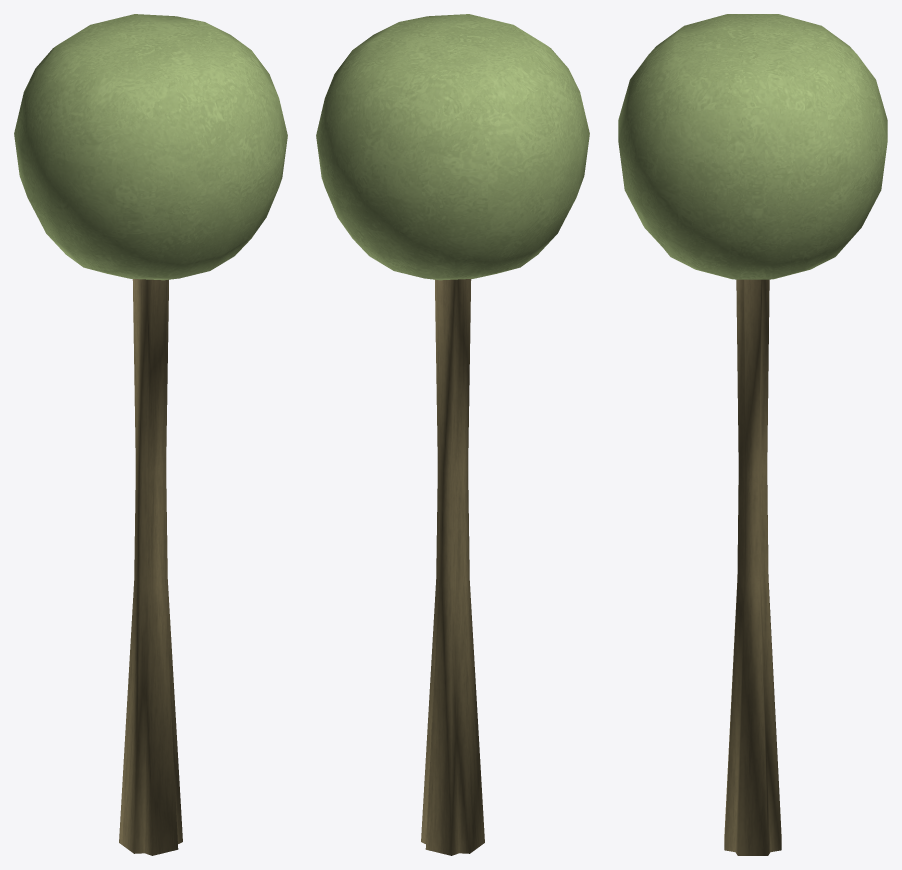
Rendered from THETREE1.FBX.
The picture shows the model from 3 angles, left to right: view 1: azimuth 30°, elevation 25°; view 2: azimuth 150°, elevation 25°; view 3: azimuth 270°, elevation 25°; orthographic projection.
Visible parts, largest first — view 1: Tree1; view 2: Tree1; view 3: Tree1.
Part boxes in pixels (x1,y1,x2,y2): Tree1: [14, 14, 287, 855]; Tree1: [316, 14, 589, 855]; Tree1: [618, 14, 887, 855].
Bounding box in the file's own units: 48.24 × 159 × 48.24.
